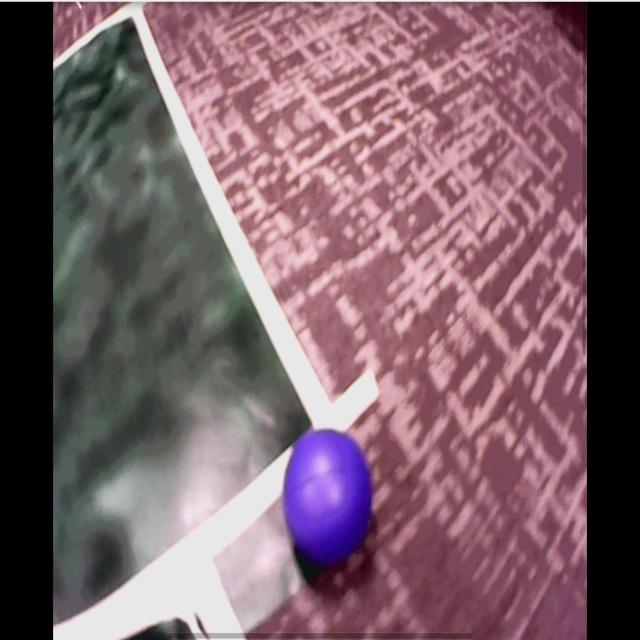ball: (285, 429, 369, 564)
